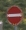No entry: (5, 5, 20, 24)
